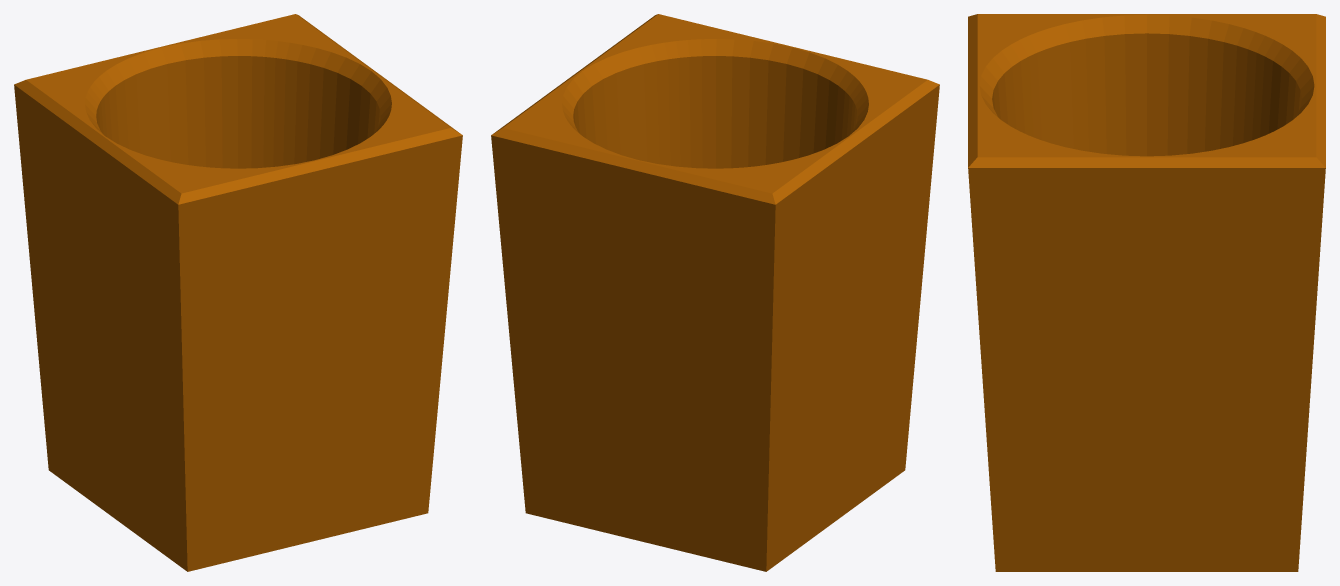
The model's file is golf_cup.glb.
3 renders of one model, left to right at view 1: azimuth 30°, elevation 25°; view 2: azimuth 150°, elevation 25°; view 3: azimuth 270°, elevation 25°, orthographic. The views are drawn at different scales.
Visible parts, largest first — view 1: cup; view 2: cup; view 3: cup.
Part boxes in pixels (box(x1,y1,x2,y2)): cup: box(14, 14, 462, 571); cup: box(491, 14, 939, 571); cup: box(968, 14, 1325, 571).
Size of the model in its own units: 0.1058 by 0.1378 by 0.1058.
